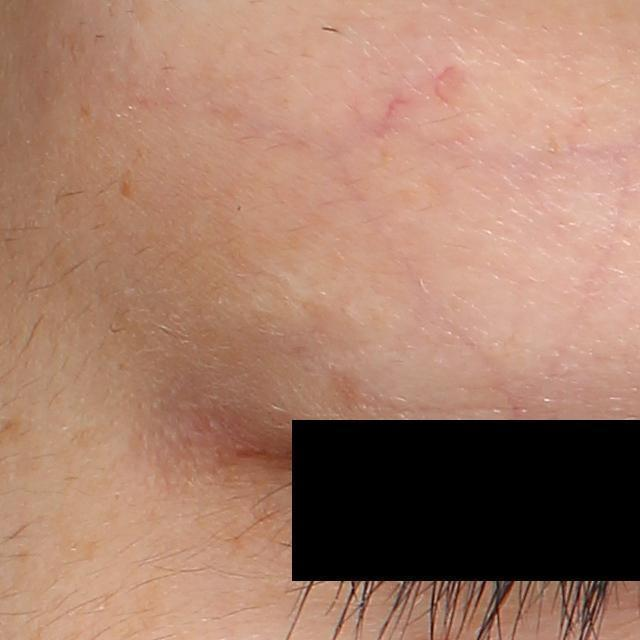melasma: (117, 173, 138, 196)
